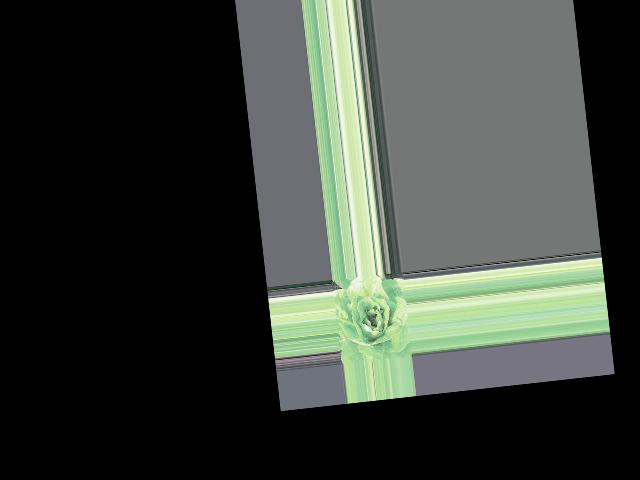lettuce: (331, 276, 409, 363)
